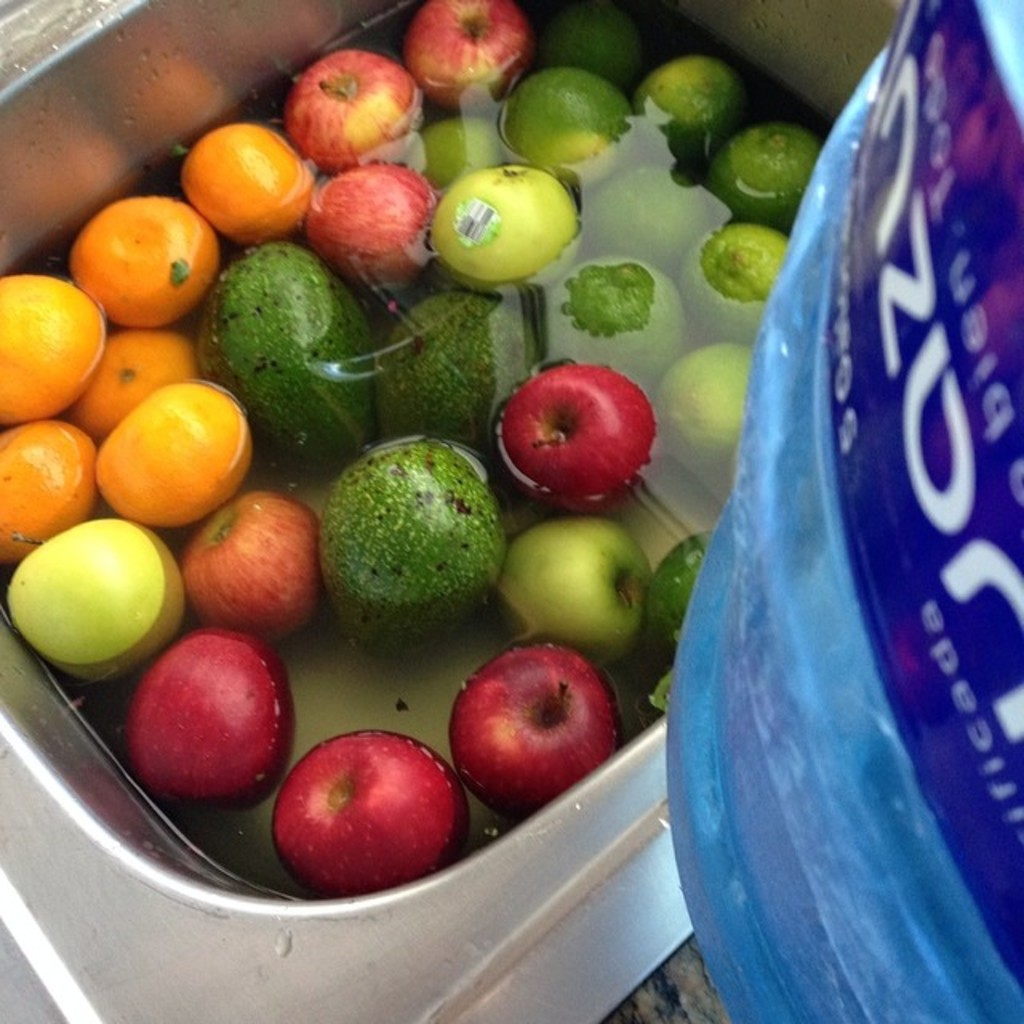Apple: (275, 732, 468, 896), (444, 638, 625, 811), (3, 518, 184, 684), (128, 627, 294, 806), (486, 347, 668, 505), (487, 519, 649, 665), (177, 494, 321, 633), (428, 160, 582, 288), (280, 51, 417, 176), (304, 164, 440, 281), (398, 0, 534, 108)
